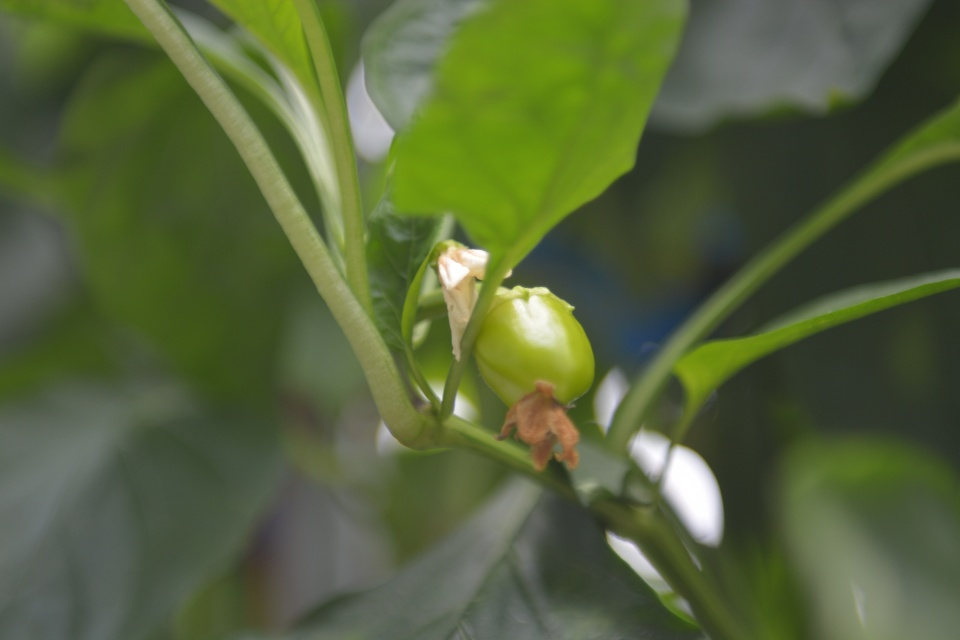flower: (434, 245, 512, 363)
immature: (471, 284, 598, 475)
